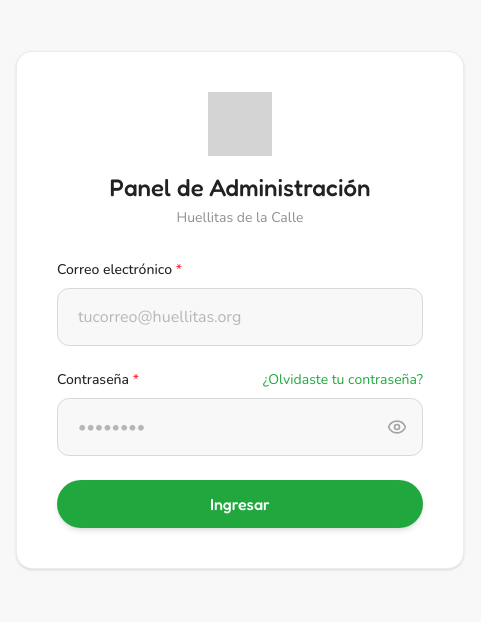
Scenario: Login — envío de credenciales › muestra el mensaje de error cuando las credenciales son inválidas
This screenshot has width=481, height=622.
Type "admin@huellitas.org" into the field labelled "Correo electrónico *". click: (240, 317)
box: [57, 288, 423, 346]
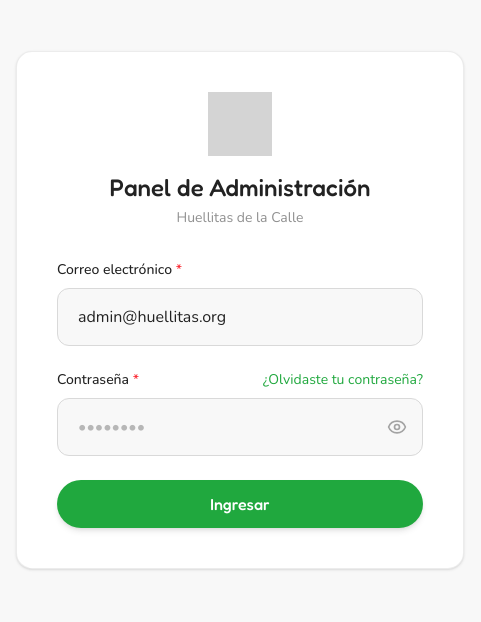
Type "mala-clave" into the password field labelled "Contraseña *". click: (240, 427)
box: [57, 398, 423, 456]
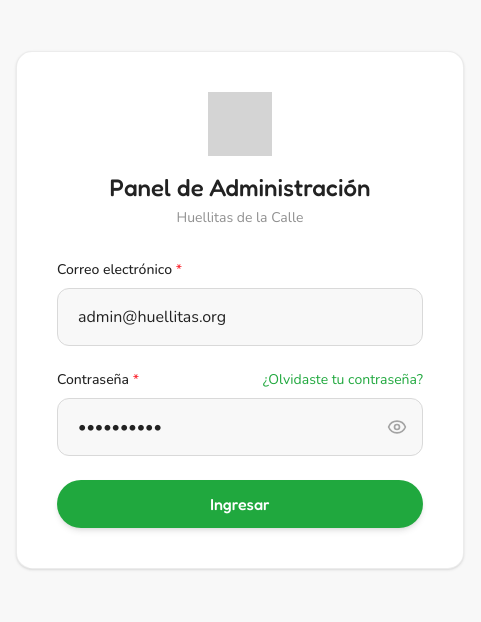
Click the button "Ingresar". click: (240, 504)
box: [57, 480, 423, 528]
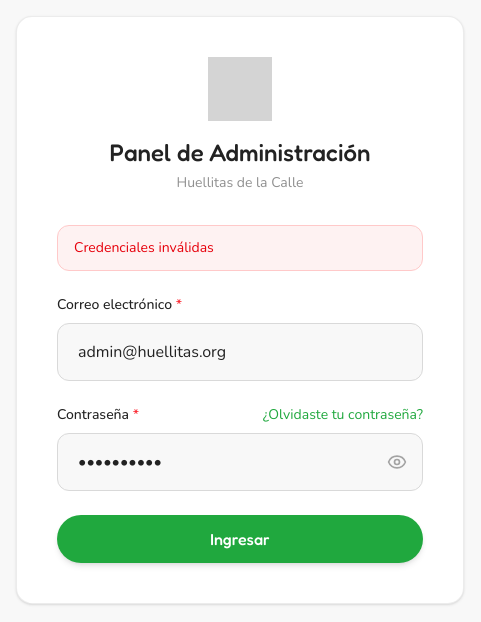
Result: the text "Credenciales inválidas" is shown at [57, 225, 423, 271]
